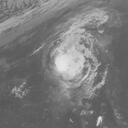cyclone: (45, 7, 104, 90)
